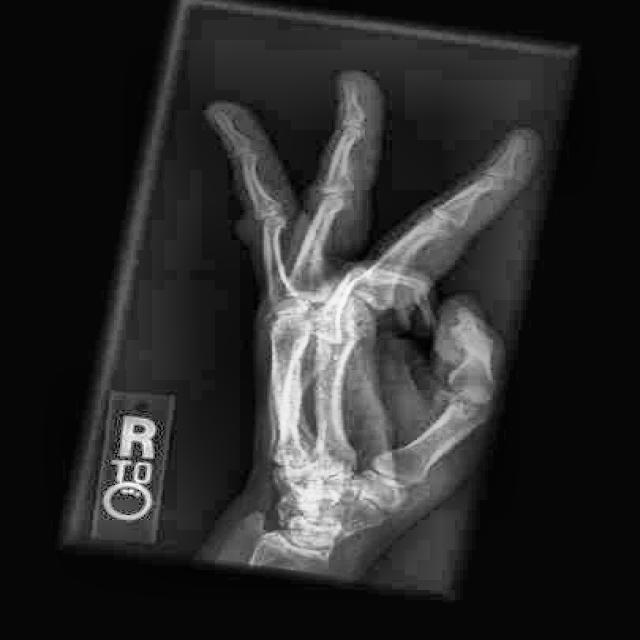fingers positive: (312, 166, 357, 220)
